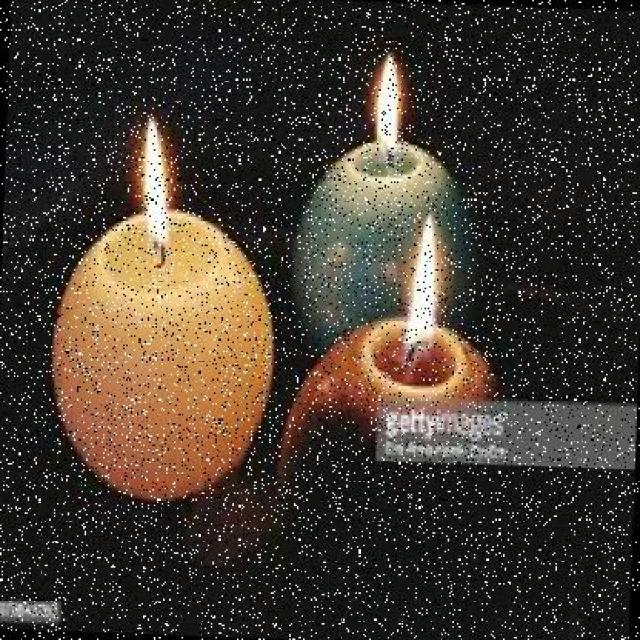fire: (396, 197, 450, 345), (365, 48, 423, 164), (126, 110, 176, 238)
